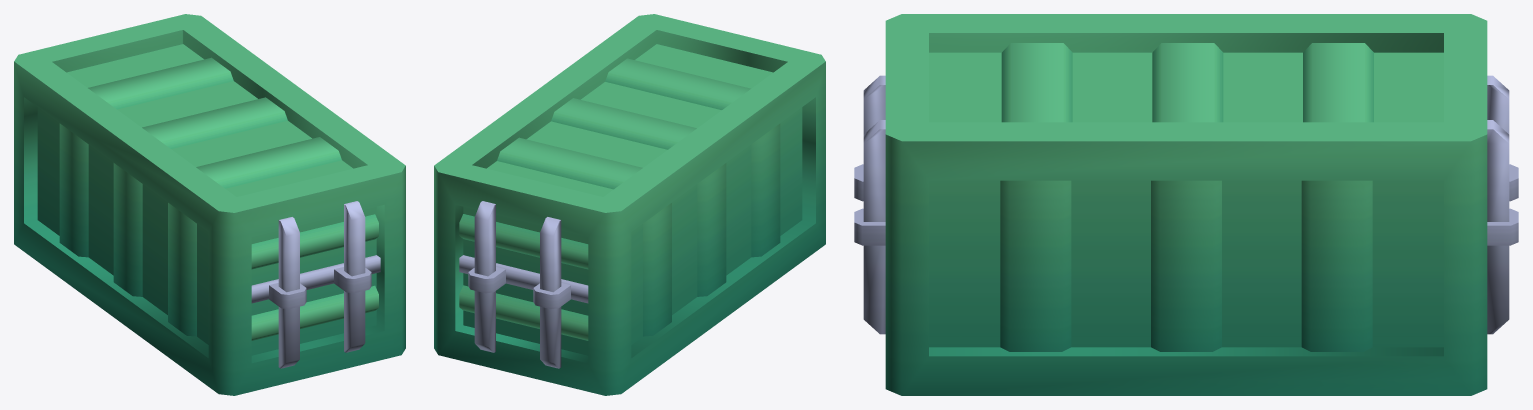
File: k-city-kit-industrial-shipping-container-c.glb
3 renders of one model, left to right at view 1: azimuth 30°, elevation 25°; view 2: azimuth 150°, elevation 25°; view 3: azimuth 270°, elevation 25°, orthographic. The views are drawn at different scales.
Parts seen in each view (by area): view 1: shipping-container-c; view 2: shipping-container-c; view 3: shipping-container-c.
Part boxes in pixels (<box>): shipping-container-c: <box>14,14,405,395</box>; shipping-container-c: <box>434,14,825,395</box>; shipping-container-c: <box>854,14,1518,395</box>.
Bounding box in the file's own units: 0.3726 × 0.3481 × 0.8226.
1 material, 1 textured.
